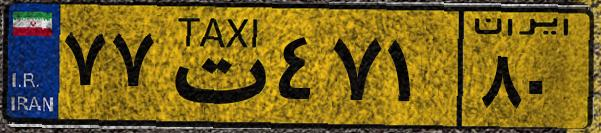0: (525, 38, 570, 115)
1: (385, 28, 445, 110)
4: (270, 28, 330, 110)
7: (330, 28, 385, 110), (57, 26, 110, 100), (110, 28, 158, 98)
8: (475, 38, 525, 113)
ت: (158, 12, 270, 120)
